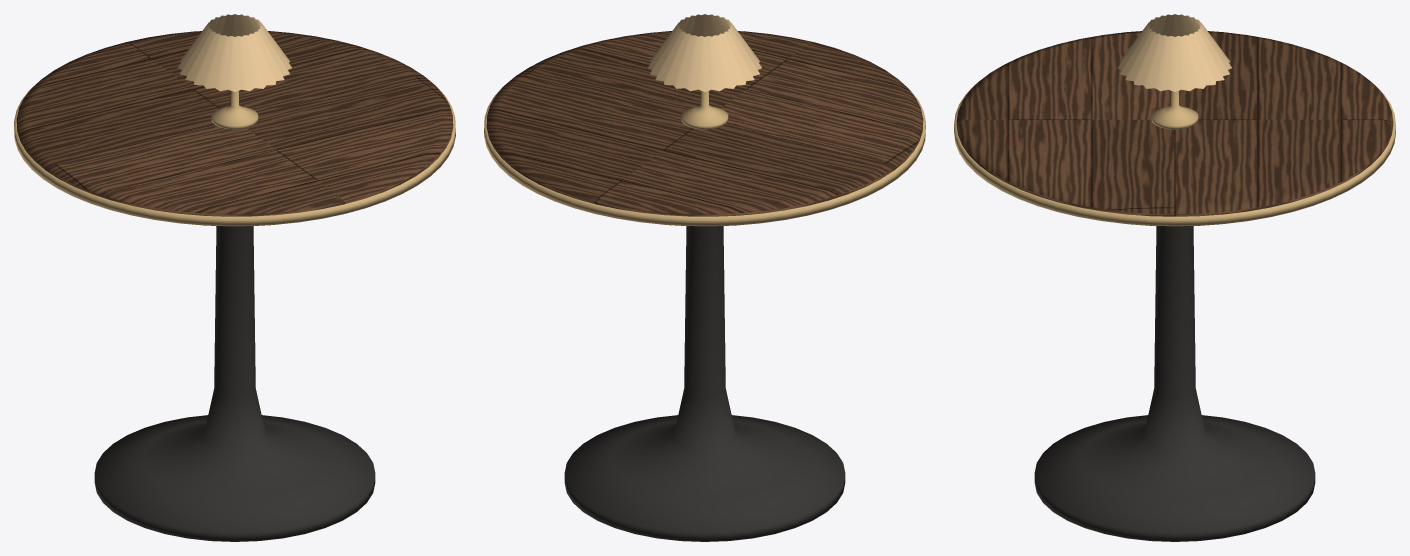
File: mesa.glb
3 renders of one model, left to right at view 1: azimuth 30°, elevation 25°; view 2: azimuth 150°, elevation 25°; view 3: azimuth 270°, elevation 25°, orthographic.
Visible parts, largest first — view 1: mesa_tampo, mesa_pe, abajur_cupula, mesa_borda, abajur_base; view 2: mesa_tampo, mesa_pe, abajur_cupula, mesa_borda, abajur_base; view 3: mesa_tampo, mesa_pe, abajur_cupula, mesa_borda, abajur_base.
Part boxes in pixels (x1=…): mesa_tampo: x1=16, y1=31, x2=453, y2=226; mesa_pe: x1=94, y1=226, x2=375, y2=541; abajur_cupula: x1=178, y1=14, x2=291, y2=91; mesa_borda: x1=14, y1=81, x2=455, y2=226; abajur_base: x1=211, y1=91, x2=258, y2=129; mesa_tampo: x1=486, y1=31, x2=923, y2=226; mesa_pe: x1=564, y1=226, x2=845, y2=541; abajur_cupula: x1=648, y1=14, x2=761, y2=91; mesa_borda: x1=484, y1=81, x2=925, y2=226; abajur_base: x1=681, y1=91, x2=728, y2=129; mesa_tampo: x1=956, y1=31, x2=1393, y2=226; mesa_pe: x1=1034, y1=226, x2=1315, y2=541; abajur_cupula: x1=1118, y1=14, x2=1231, y2=91; mesa_borda: x1=954, y1=82, x2=1395, y2=226; abajur_base: x1=1151, y1=91, x2=1198, y2=129.
Bounding box in the file's own units: 0.85 × 0.97 × 0.85.
5 materials, 1 textured.
